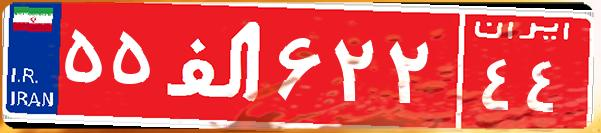2: (385, 28, 445, 110), (330, 28, 385, 110)
4: (475, 38, 525, 113), (525, 38, 570, 115)
5: (57, 26, 110, 107), (110, 28, 158, 105)
6: (273, 28, 330, 110)
الف: (158, 15, 273, 115)
